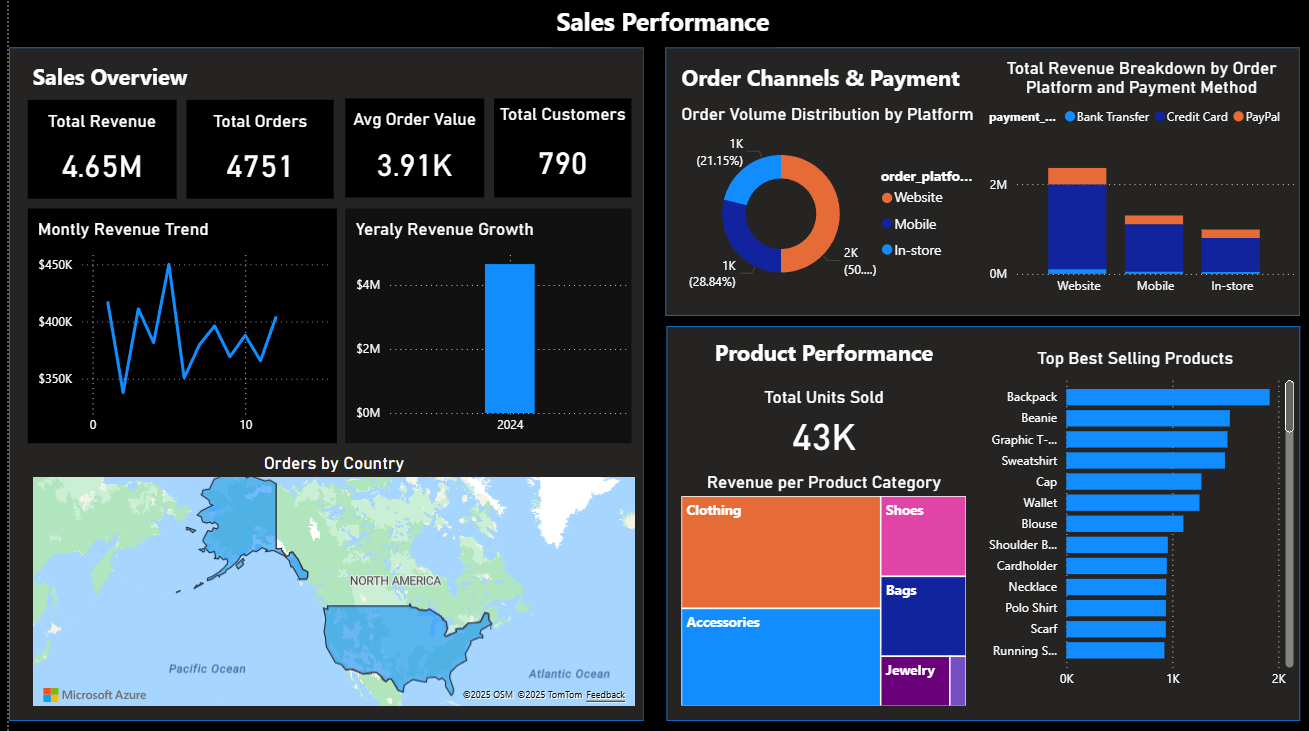

The page's visual inventory and layout, read from the dashboard file:
{"tool":"powerbi","page":{"name":"Sales Overview","canvas":[1280,720],"ordinal":0},"visuals":[{"type":"shape","box":[643.2,322.8,620,386.4],"z":1000},{"type":"shape","box":[0,50.1,621.2,659.1],"z":2000},{"type":"card","title":"Total Revenue","fields":{"Values":["mv_sales_summary.total_revenue"]},"box":[18.3,101.5,145.5,96.6],"z":3000},{"type":"card","title":"Total Orders","fields":{"Values":["mv_sales_summary.total_orders"]},"box":[173.6,101.5,144.3,96.6],"z":4000},{"type":"card","title":"Avg Order Value","fields":{"Values":["mv_sales_summary.avg_order_value"]},"box":[328.9,100.3,135.7,96.6],"z":5000},{"type":"lineChart","title":"Montly Revenue Trend","fields":{"Y":["mv_sales_summary.total_revenue"],"Category":["mv_sales_summary.order_month"]},"box":[18.3,208.1,302,229.9],"z":6000},{"type":"clusteredColumnChart","title":"Yeraly Revenue Growth","fields":{"Category":["mv_sales_summary.order_year"],"Y":["mv_sales_summary.total_revenue"]},"box":[328.9,207.9,280,229.9],"z":7000},{"type":"textbox","box":[18.3,58.7,207.9,42.8],"z":8000},{"type":"azureMap","title":"Orders by Country","fields":{"Category":["mv_customer_revenue.cust_country"]},"box":[18.3,446.3,599.2,253.1],"z":10000},{"type":"shape","box":[642,50.1,621.2,262.9],"z":11000},{"type":"textbox","box":[653,328.9,288.6,42.8],"z":12000},{"type":"card","title":"Total Customers","fields":{"Values":["mv_customer_revenue.customer_id"]},"box":[474.5,100.3,134.5,96.6],"z":13000},{"type":"card","title":"Total Units Sold","fields":{"Values":["mv_product_performance.total_units_sold"]},"box":[653,371.7,288.6,83.2],"z":15000},{"type":"barChart","title":"Top Best Selling Products","fields":{"Category":["mv_product_performance.product_name"],"Y":["mv_product_performance.total_units_sold"]},"box":[941.6,333.8,320.4,365.6],"z":16000},{"type":"treemap","title":"Revenue per Product Category","fields":{"Group":["mv_product_performance.product_category"],"Values":["mv_product_performance.total_revenue"]},"box":[653,454.9,288.6,244.6],"z":17000},{"type":"textbox","box":[530.7,3.7,218.9,46.5],"z":18000},{"type":"textbox","box":[653.2,59.7,299.6,42.8],"z":19000},{"type":"donutChart","title":"Order Volume Distribution by Platform","fields":{"Category":["mv_order_channel.order_platform"],"Y":["mv_order_channel.total_orders"]},"box":[653,105.2,300.8,196.9],"z":20000},{"type":"columnChart","title":"Total Revenue Breakdown by Order Platform and Payment Method","fields":{"Category":["mv_order_channel.order_platform"],"Y":["mv_order_channel.total_revenue"],"Series":["mv_order_channel.payment_method"]},"box":[953.8,59.9,308.2,242.1],"z":21000}]}

Visuals, with their boxes in screenshot pixels (x1, y1, x2, y2), scaled from the page's 1280x720 canvas onto the 1309x731 screenshot:
shape: box(658, 328, 1292, 720)
shape: box(0, 51, 635, 720)
"Total Revenue" card: box(19, 103, 168, 201)
"Total Orders" card: box(178, 103, 325, 201)
"Avg Order Value" card: box(336, 102, 475, 200)
"Montly Revenue Trend" lineChart: box(19, 211, 328, 445)
"Yeraly Revenue Growth" clusteredColumnChart: box(336, 211, 623, 444)
textbox: box(19, 60, 231, 103)
"Orders by Country" azureMap: box(19, 453, 631, 710)
shape: box(657, 51, 1292, 318)
textbox: box(668, 334, 963, 377)
"Total Customers" card: box(485, 102, 623, 200)
"Total Units Sold" card: box(668, 377, 963, 462)
"Top Best Selling Products" barChart: box(963, 339, 1291, 710)
"Revenue per Product Category" treemap: box(668, 462, 963, 710)
textbox: box(543, 4, 767, 51)
textbox: box(668, 61, 974, 104)
"Order Volume Distribution by Platform" donutChart: box(668, 107, 975, 307)
"Total Revenue Breakdown by Order Platform and Payment Method" columnChart: box(975, 61, 1291, 307)
